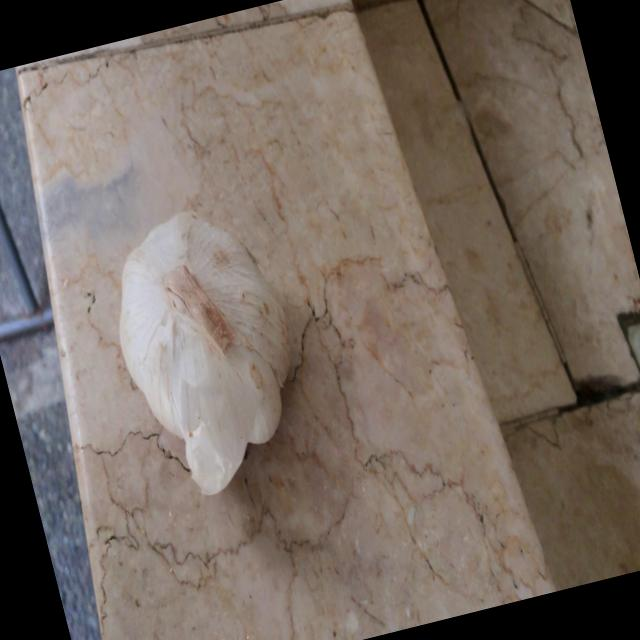garlic: (88, 190, 325, 511)
